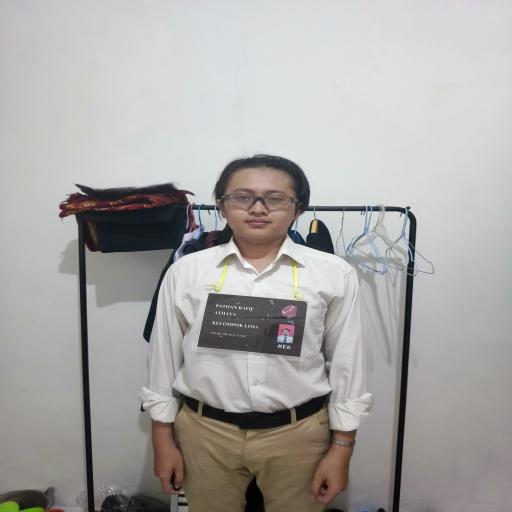celana_salah: (168, 404, 343, 512)
kemeja_benar: (138, 239, 371, 411)
nametag_ada: (193, 271, 311, 363)
sabuk_ada: (177, 389, 348, 435)
